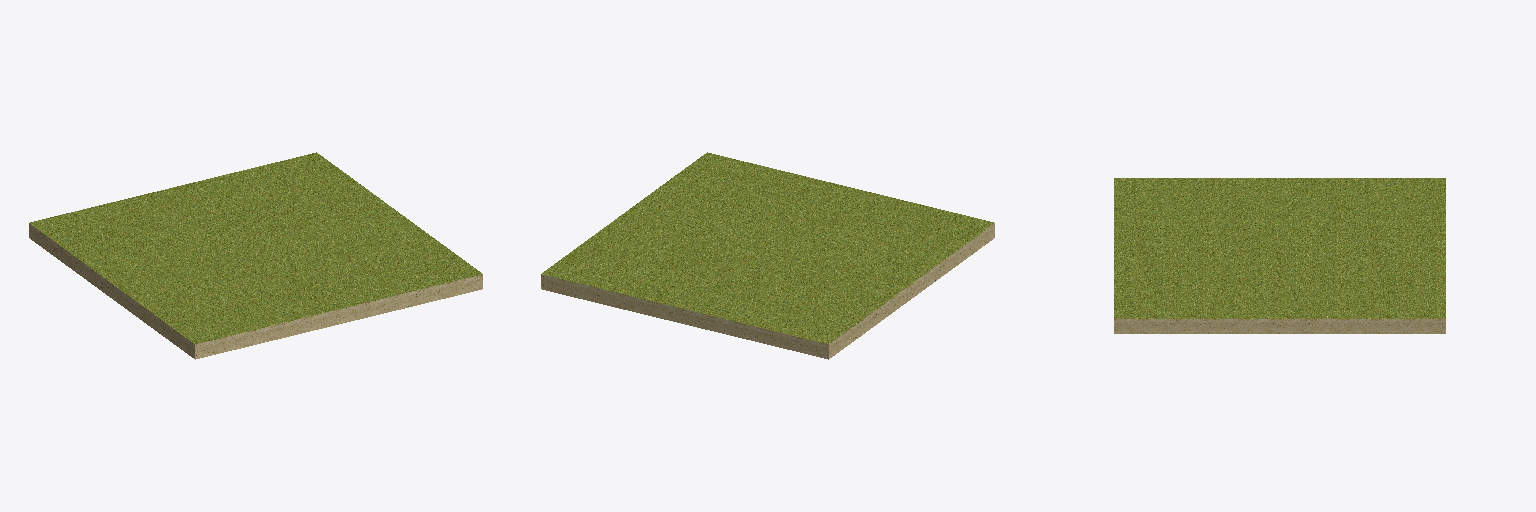
The picture shows the model from 3 angles: view 1: azimuth 30°, elevation 25°; view 2: azimuth 150°, elevation 25°; view 3: azimuth 270°, elevation 25°; orthographic projection.
Parts seen in each view (by area): view 1: Object002, Object001; view 2: Object002, Object001; view 3: Object002, Object001.
Part boxes in pixels (x1,y1,x2,y2): Object002: (30, 152, 481, 343); Object001: (29, 223, 482, 359); Object002: (542, 152, 993, 343); Object001: (541, 223, 994, 359); Object002: (1114, 178, 1445, 318); Object001: (1114, 319, 1445, 333).
Bounding box in the file's own units: 100 × 5 × 100.
Materials: 2 (2 with a texture image).